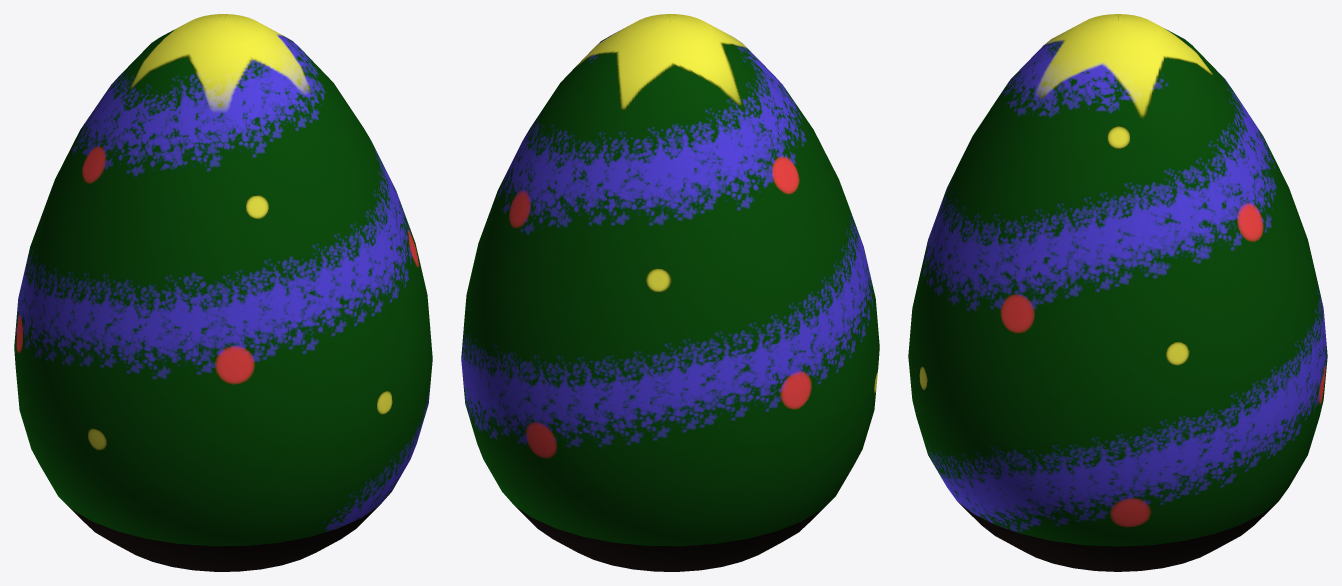
The model's file is Egg_Christmas.FBX.
The picture shows the model from 3 angles, left to right: view 1: azimuth 30°, elevation 25°; view 2: azimuth 150°, elevation 25°; view 3: azimuth 270°, elevation 25°; orthographic projection.
Parts seen in each view (by area): view 1: Sphere004; view 2: Sphere004; view 3: Sphere004.
Boxes of the visible parts, left/top/right/bottom form: Sphere004: left=14, top=14, right=432, bottom=571; Sphere004: left=461, top=14, right=879, bottom=571; Sphere004: left=908, top=14, right=1327, bottom=571.
Bounding box in the file's own units: 56.03 × 56.03 × 77.86.
2 materials, 1 textured.
